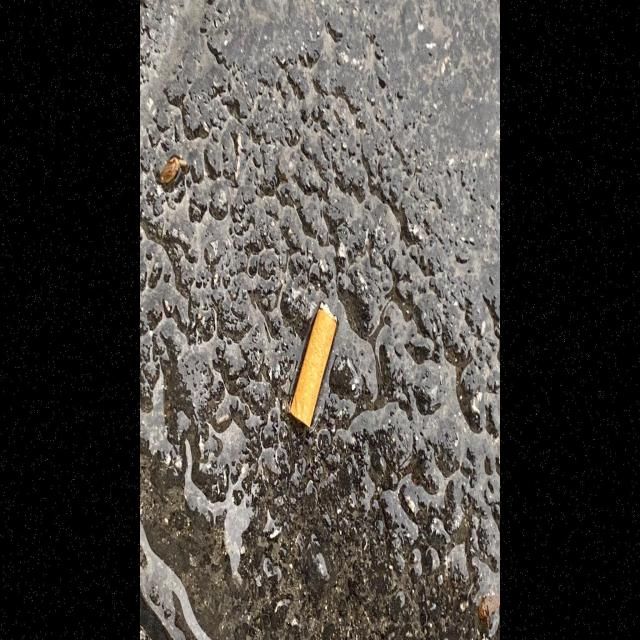other waste: (290, 300, 338, 429)
